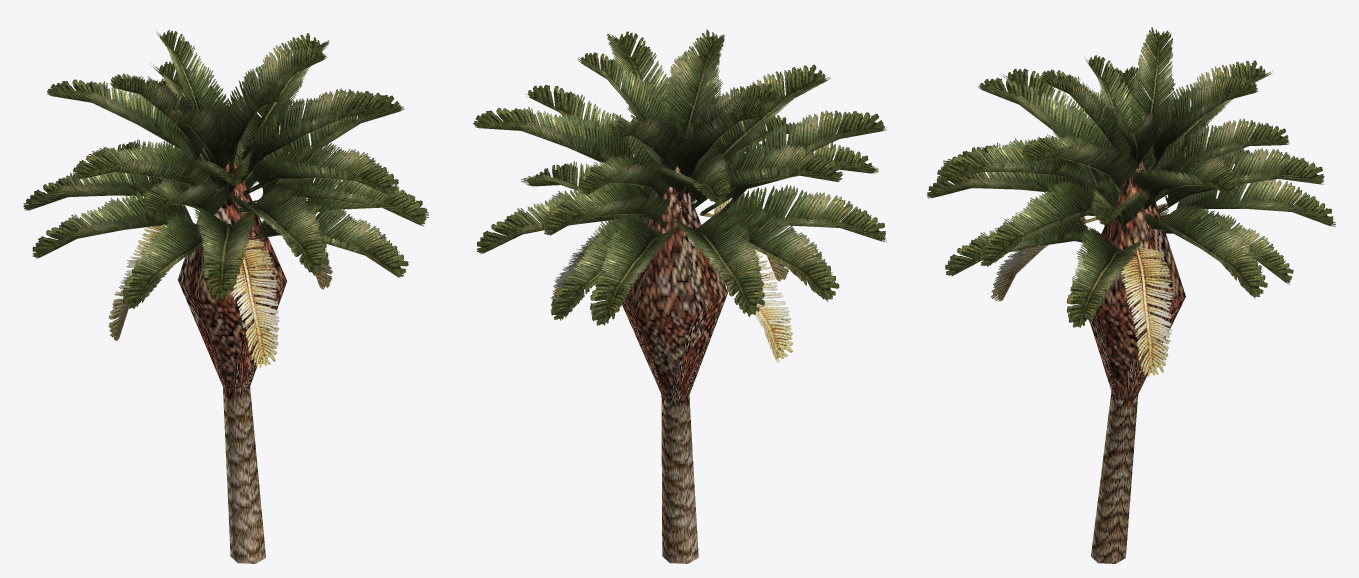
File: palm_v4.glb
The picture shows the model from 3 angles, left to right: view 1: azimuth 30°, elevation 25°; view 2: azimuth 150°, elevation 25°; view 3: azimuth 270°, elevation 25°; orthographic projection. The views are drawn at different scales.
Parts seen in each view (by area): view 1: tree_cretan_date_palm_04; view 2: tree_cretan_date_palm_04; view 3: tree_cretan_date_palm_04.
Boxes of the visible parts, bbox=[...] form: tree_cretan_date_palm_04: bbox=[23, 30, 428, 563]; tree_cretan_date_palm_04: bbox=[473, 29, 886, 563]; tree_cretan_date_palm_04: bbox=[927, 27, 1335, 563].
Size of the model in its own units: 1.21 by 1.59 by 1.23.
1 material, 1 textured.
